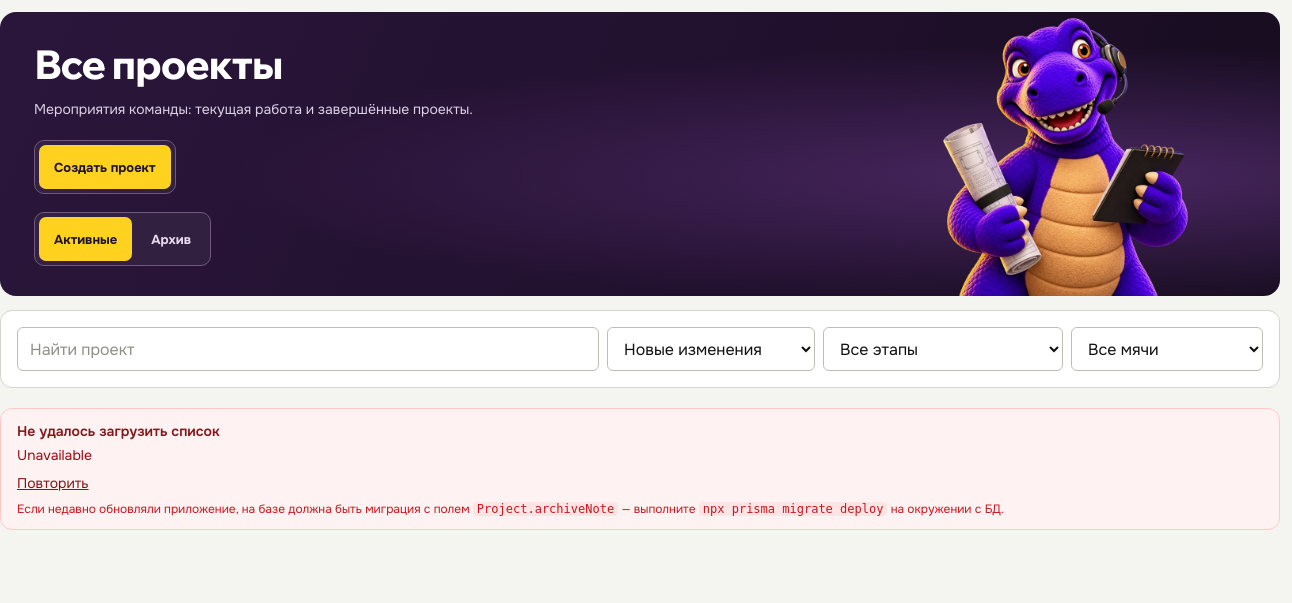
projects list lifecycle › shows the server error and retries only on an explicit action
This screenshot has width=1292, height=603.
Click the button "Повторить".
click(53, 484)  # box [17,474,89,494]
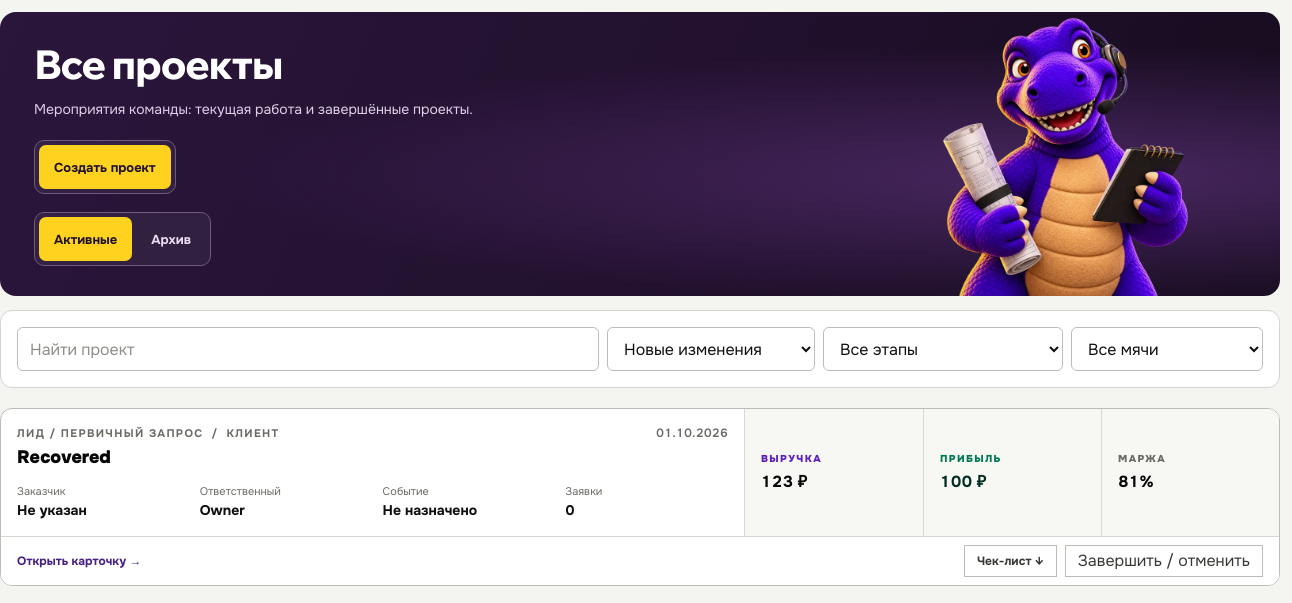
Check: the text "Recovered" is shown, box [17,446,111,468]
Check: the text "Unavailable" is gone
